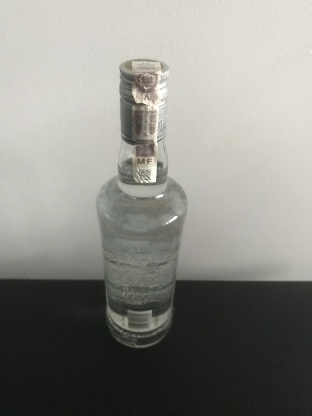nakretka: (117, 57, 170, 145)
